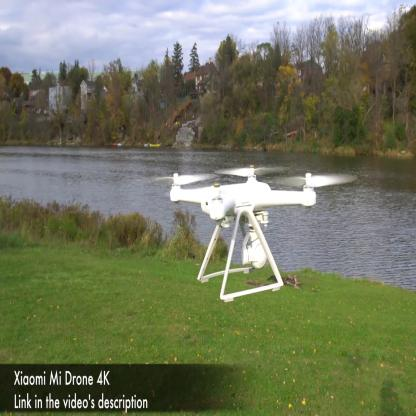drone: (156, 155, 360, 237)
